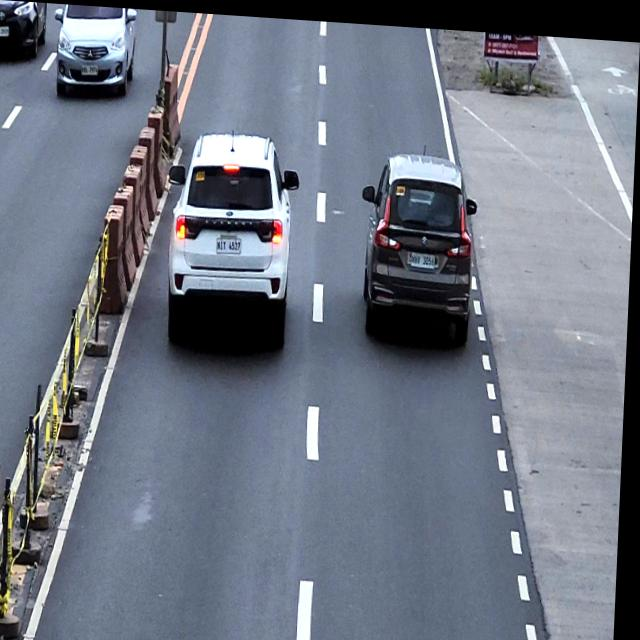Car: (162, 123, 304, 353), (359, 144, 481, 346), (52, 3, 136, 96), (0, 0, 48, 60)
License-Plate: (216, 233, 245, 252), (411, 245, 439, 264), (79, 61, 99, 76), (0, 26, 10, 39)
